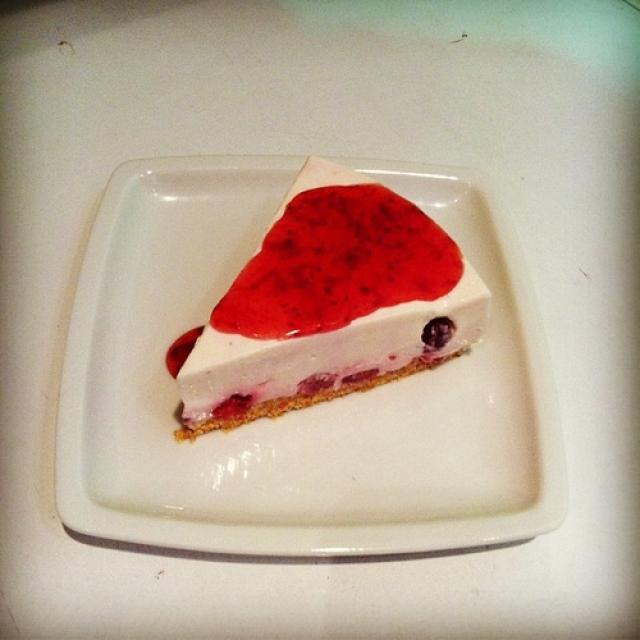Rare cheese cake: (132, 143, 520, 461)
